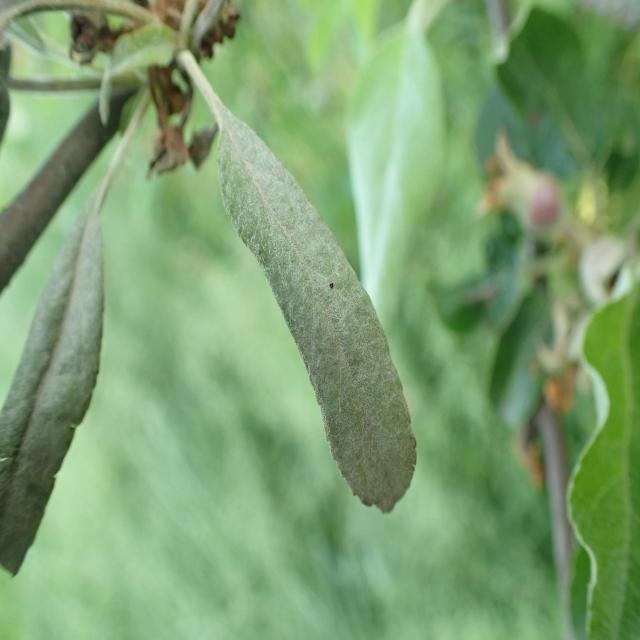Powdery_mildew: (188, 74, 432, 520), (0, 163, 121, 584)
